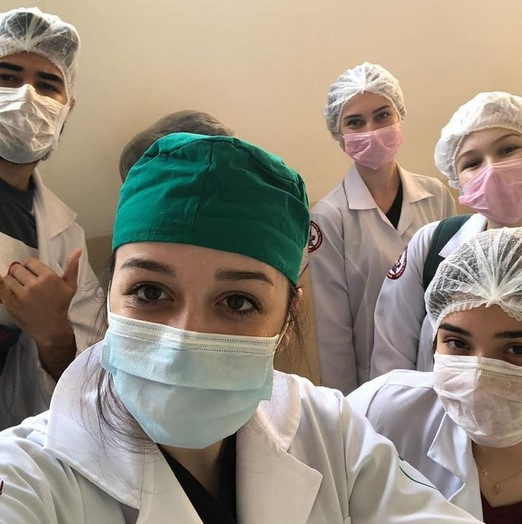face_with_mask: (103, 130, 310, 452), (421, 231, 521, 450), (2, 7, 80, 168), (434, 92, 521, 227), (323, 61, 404, 175)
